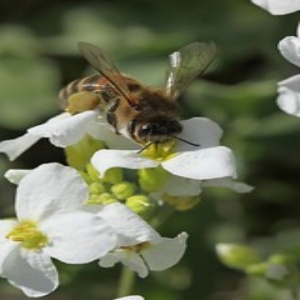bee: (56, 39, 225, 156)
